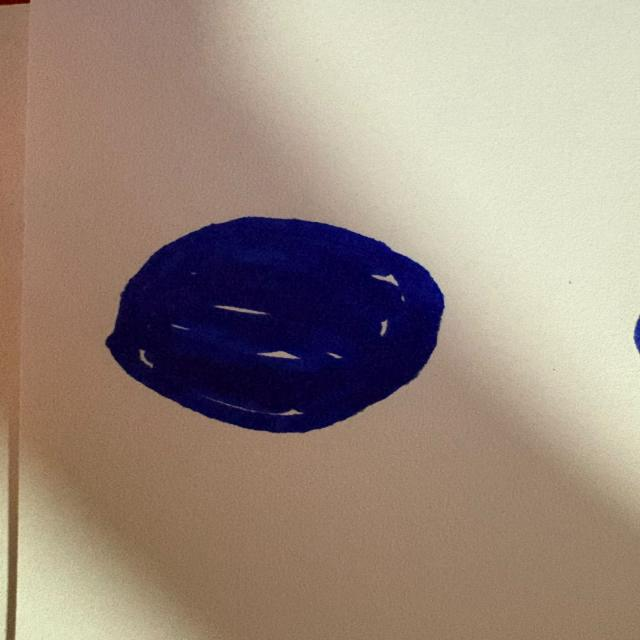Circle: (96, 212, 452, 438)
